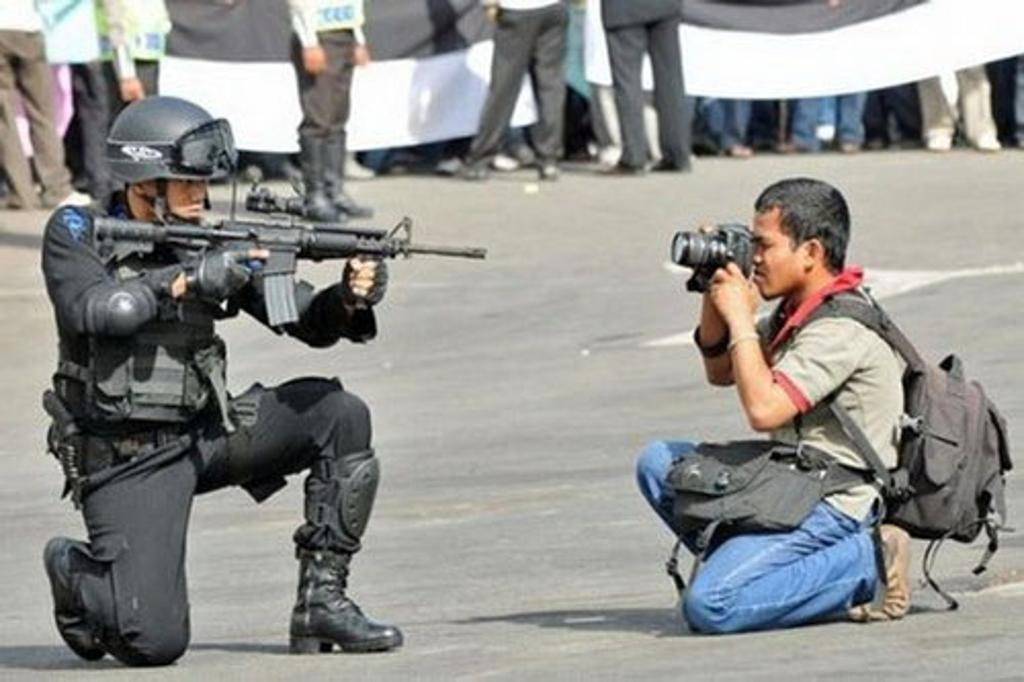face: (752, 209, 812, 299), (150, 155, 205, 229)
